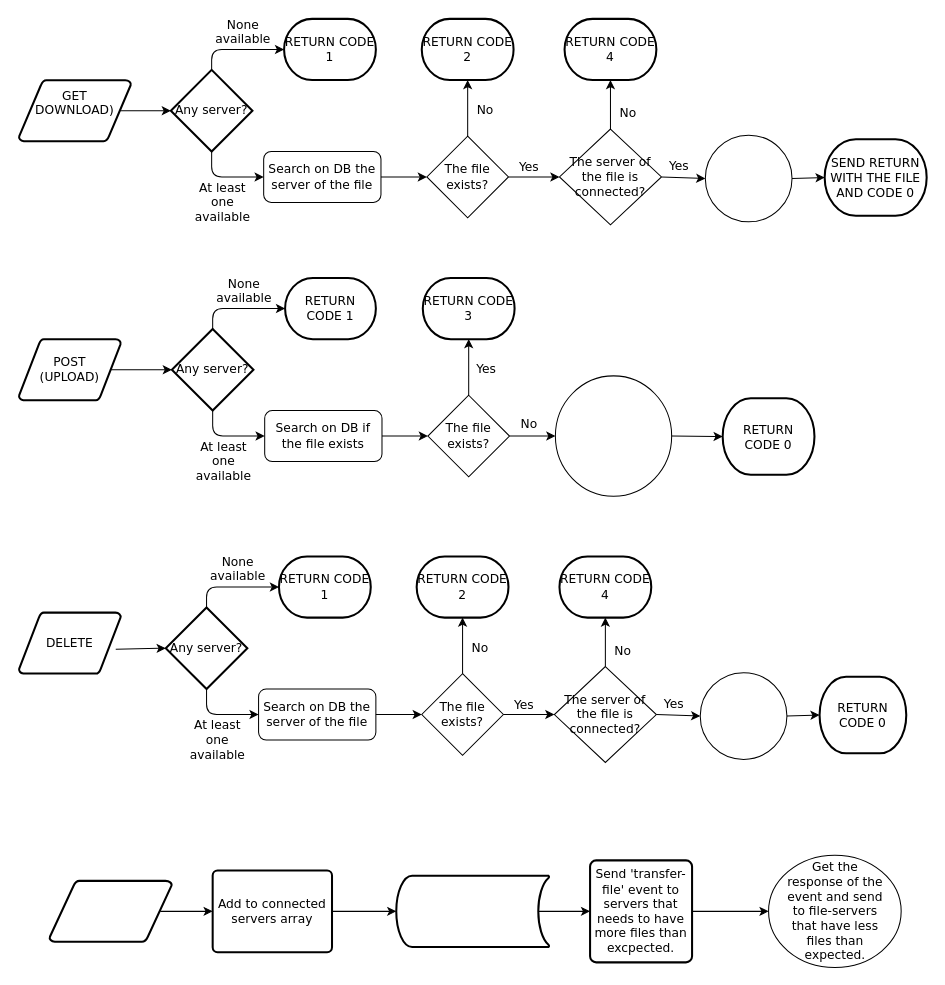
This 945x985 diagram has some shape labels left out. The box of each missing label's shape, as (x1, y1, x2, y2) in pixels:
Emit 'delete' event to the specific server: (699, 672, 787, 759)
Emit 'download' event to the specific server: (704, 134, 792, 222)
Emit 'upload' event to the server that has the minimum number of files: (554, 375, 672, 496)
FILE-SERVER CONNECTED: (48, 879, 172, 942)
Get total of files on each server.: (395, 874, 550, 948)
